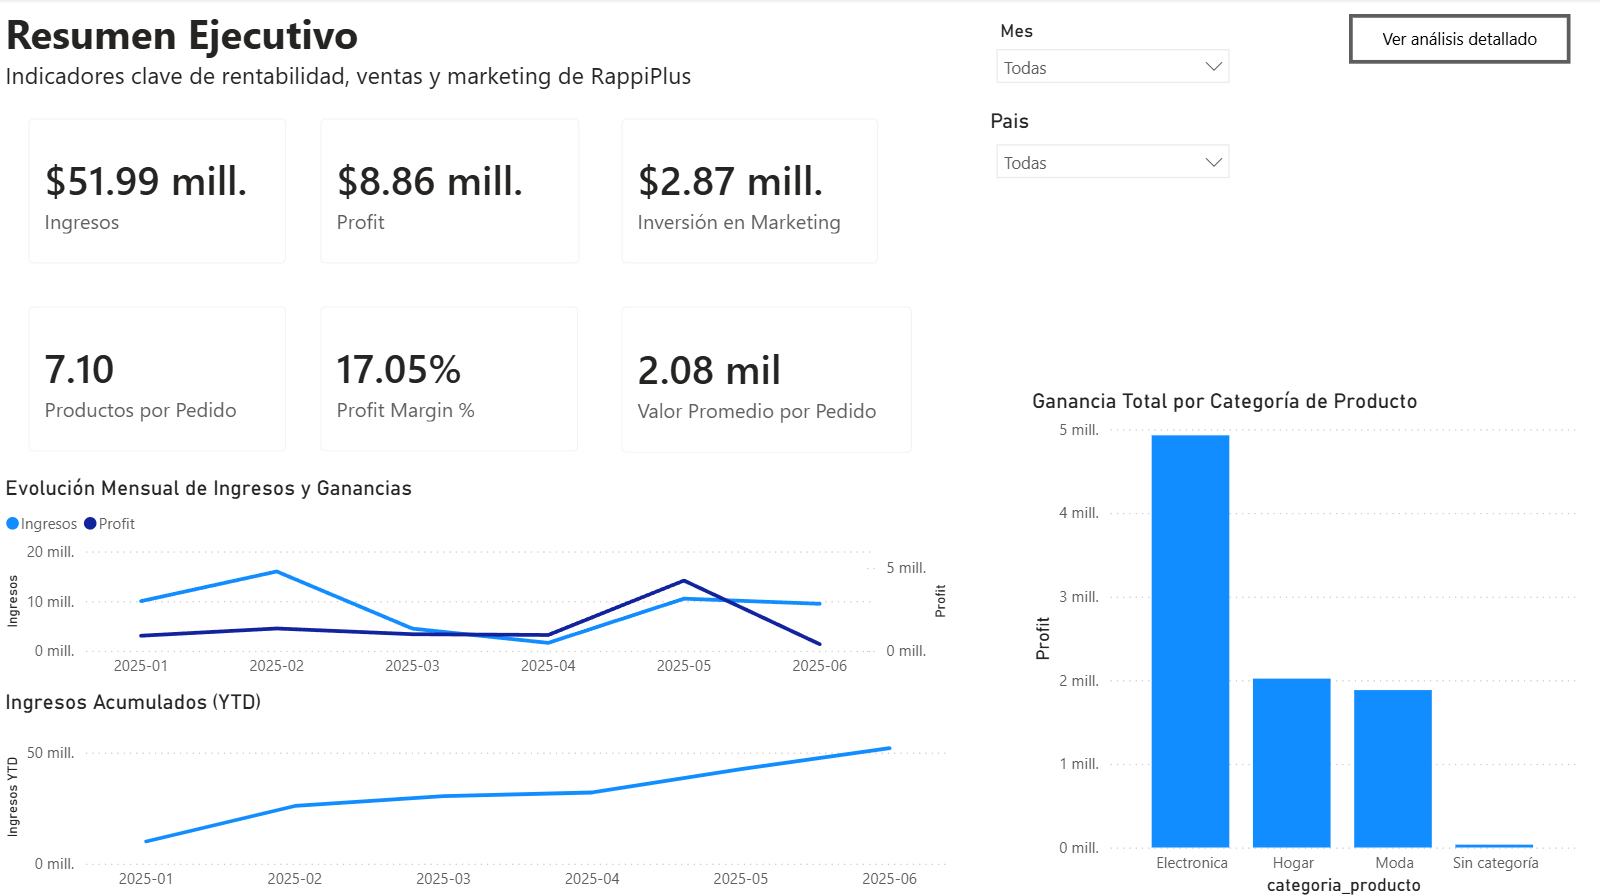

Layout of this report page (visuals, bound fields, positions):
{"tool":"powerbi","page":{"name":"Resumen Ejecutivo","canvas":[1280,720],"ordinal":0},"visuals":[{"type":"textbox","box":[0,0,566.1,87.5],"z":0},{"type":"cardVisual","fields":{"Data":["orders_clean.Ingresos"]},"box":[6.4,78.3,240.3,150.1],"z":1000},{"type":"cardVisual","fields":{"Data":["orders_clean.Profit"]},"box":[239.4,78.3,241.3,150.1],"z":2000},{"type":"cardVisual","title":"Inversión en Marketing","fields":{"Data":["marketing_clean.Gasto Marketing"]},"box":[479.8,78.3,239.4,150.1],"z":3000},{"type":"lineChart","title":"Evolución Mensual de Ingresos y Ganancias","fields":{"Y":["orders_clean.Ingresos"],"Y2":["orders_clean.Profit"],"Category":["Dim_Fecha.AñoMes"]},"box":[0,380.3,762.5,170.4],"z":4000},{"type":"lineChart","title":"Ingresos Acumulados (YTD)","fields":{"Y":["orders_clean.Ingresos YTD"],"Category":["Dim_Fecha.AñoMes"]},"box":[0,550.7,763.4,169.4],"z":5000},{"type":"clusteredColumnChart","title":"Ganancia Total por Categoría de Producto","fields":{"Category":["orders_clean.categoria_producto"],"Y":["orders_clean.Profit"]},"box":[819.6,310.3,444.8,409.8],"z":6000},{"type":"cardVisual","fields":{"Data":["orders_clean.Profit Margin %"]},"box":[239.4,228.4,240.3,150.1],"z":7000},{"type":"cardVisual","title":"Valor Promedio por Pedido","fields":{"Data":["orders_clean.Ticket Promedio"]},"box":[479.6,228.6,266.5,151.8],"z":8000},{"type":"cardVisual","fields":{"Data":["orders_clean.Productos Promedio por Orden"]},"box":[6,228.6,240.6,150.1],"z":9000},{"type":"slicer","fields":{"Values":["Dim_Fecha.Mes"]},"box":[786.6,12.1,206.1,66.4],"z":10000},{"type":"slicer","title":"Pais","fields":{"Values":["orders_clean.pais"]},"box":[786.6,87.1,206.1,75],"z":11000},{"type":"actionButton","box":[1077.3,12.1,176.8,39.7],"z":11001}]}

Visuals, with their boxes in screenshot pixels (x1, y1, x2, y2), scaled from the page's 1280x720 canvas onto the 1600x896 screenshot:
textbox: rect(0, 0, 708, 109)
cardVisual - orders_clean.Ingresos: rect(8, 97, 308, 284)
cardVisual - orders_clean.Profit: rect(299, 97, 601, 284)
"Inversión en Marketing" cardVisual: rect(600, 97, 899, 284)
"Evolución Mensual de Ingresos y Ganancias" lineChart: rect(0, 473, 953, 685)
"Ingresos Acumulados (YTD)" lineChart: rect(0, 685, 954, 895)
"Ganancia Total por Categoría de Producto" clusteredColumnChart: rect(1024, 386, 1580, 895)
cardVisual - orders_clean.Profit Margin %: rect(299, 284, 600, 471)
"Valor Promedio por Pedido" cardVisual: rect(600, 284, 933, 473)
cardVisual - orders_clean.Productos Promedio por Orden: rect(8, 284, 308, 471)
slicer - Dim_Fecha.Mes: rect(983, 15, 1241, 98)
"Pais" slicer: rect(983, 108, 1241, 202)
actionButton: rect(1347, 15, 1568, 64)
